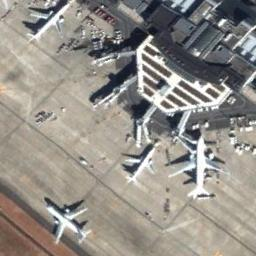Airplane: (166, 134, 228, 200), (43, 196, 91, 245), (120, 141, 158, 184)
